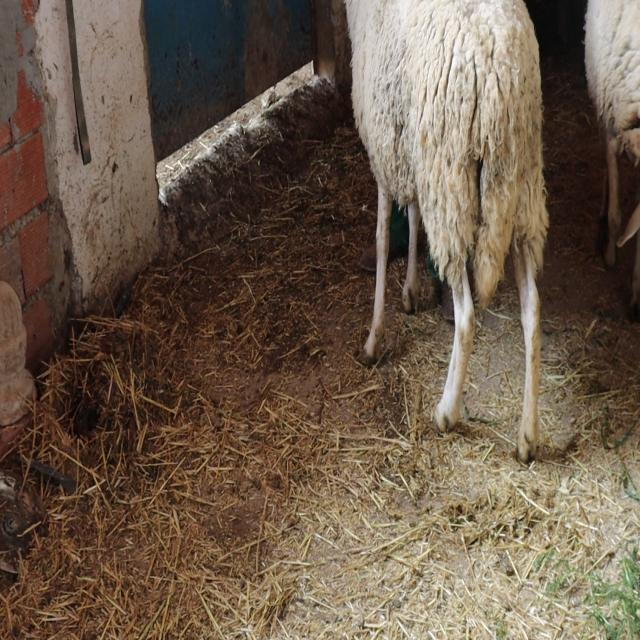Score_5: (345, 0, 549, 461)
